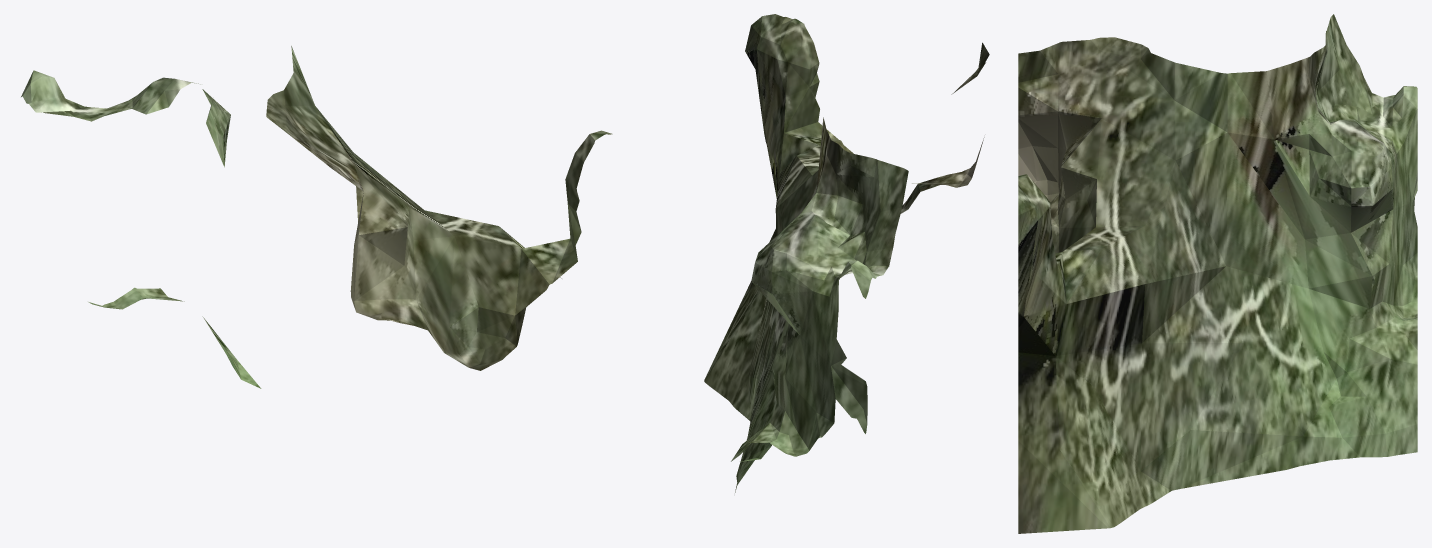
The picture shows the model from 3 angles, left to right: view 1: azimuth 30°, elevation 25°; view 2: azimuth 150°, elevation 25°; view 3: azimuth 270°, elevation 25°; orthographic projection. The views are drawn at different scales.
Size of the model in its own units: 2.76 by 2.95 by 2.95.
Materials: 4 (4 with a texture image).
